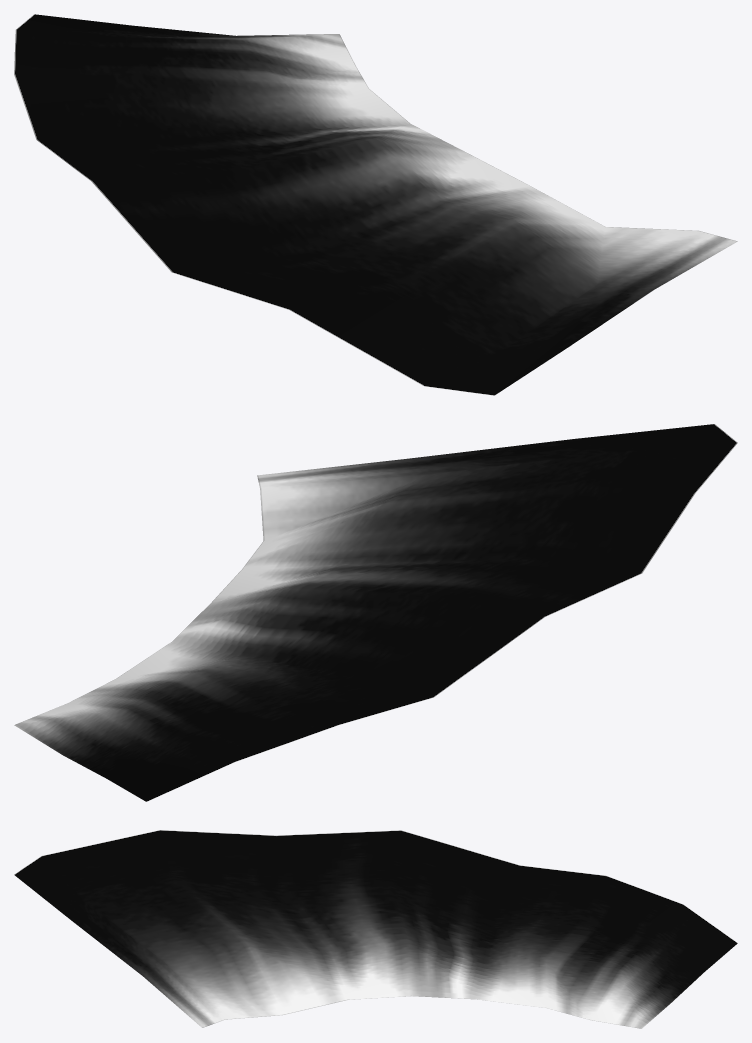
The model's file is FX_lfl_wuqi_802_weiba.FBX.
The picture shows the model from 3 angles, top to bottom: view 1: azimuth 30°, elevation 25°; view 2: azimuth 150°, elevation 25°; view 3: azimuth 270°, elevation 25°; orthographic projection. The views are drawn at different scales.
Visible parts, largest first — view 1: Plane002; view 2: Plane002; view 3: Plane002.
Part boxes in pixels (x1,y1,x2,y2): Plane002: (14, 14, 737, 395); Plane002: (14, 424, 737, 801); Plane002: (14, 830, 737, 1028).
Bounding box in the file's own units: 7.24 × 1.38 × 13.87.
Materials: 1 (1 with a texture image).
